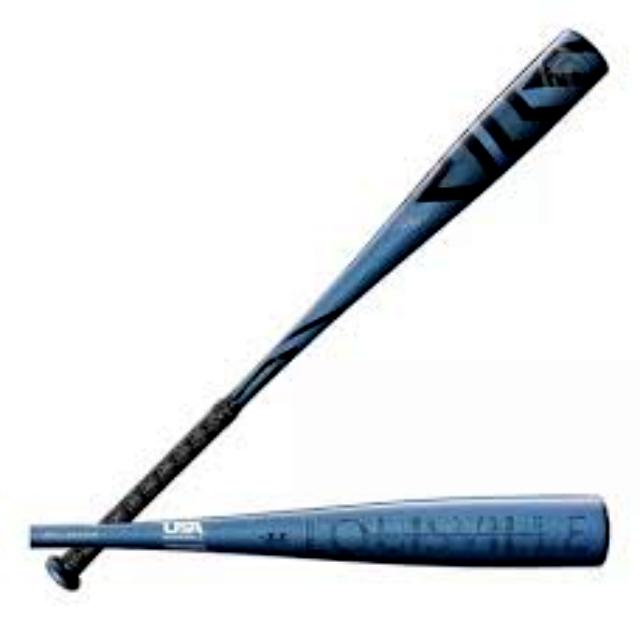baseball bat: (40, 18, 610, 588), (23, 492, 606, 557)
